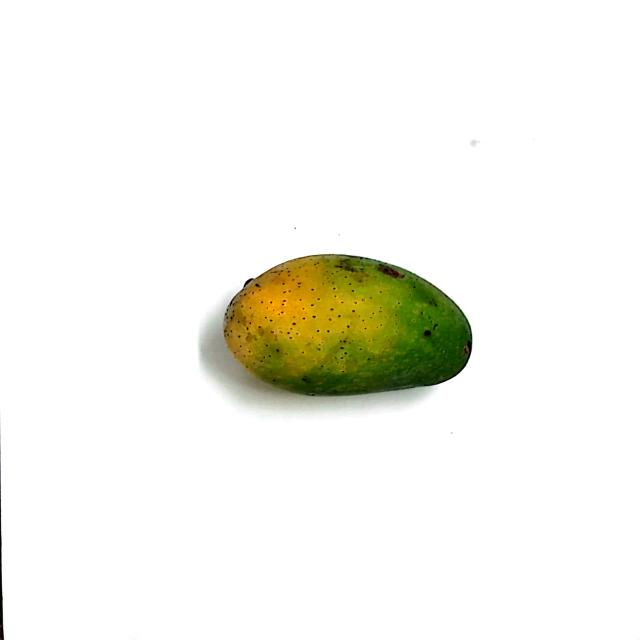fresh_mango: (223, 253, 471, 397)
